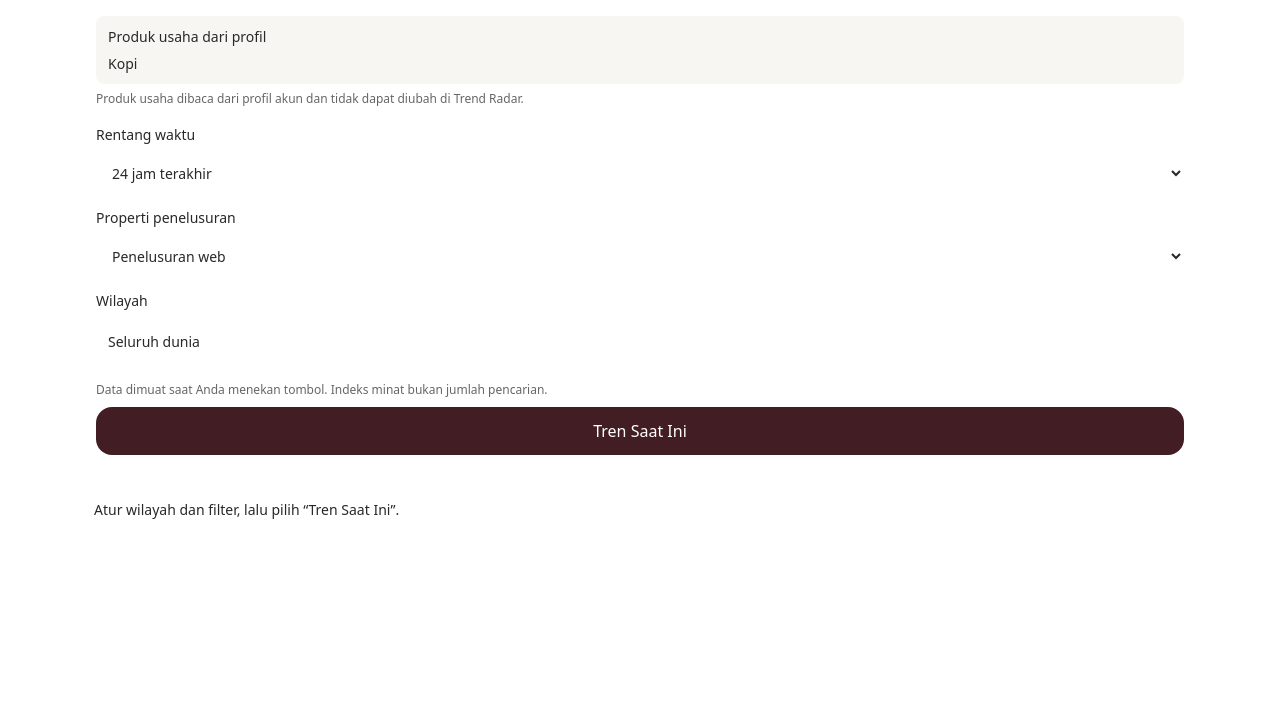
Test: TrendRadarPanel › shows an explicit empty state when SearchApi returns empty arrays
This screenshot has width=1280, height=720.
Click the button "Tren Saat Ini" at (640, 431), box [96, 407, 1184, 455]
(page scrolled)
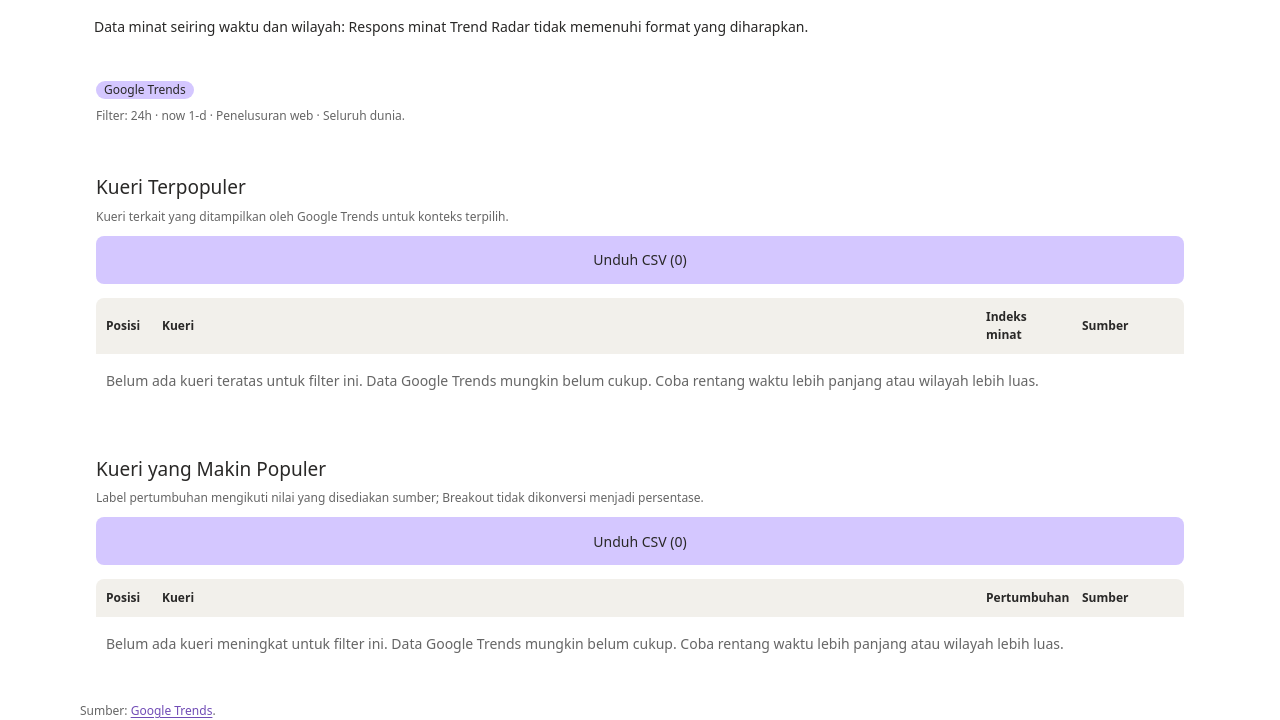
Result: the text "Belum ada kueri teratas untuk filter ini." is shown at [106, 370, 1039, 390]
Result: the text "Belum ada kueri meningkat untuk filter ini." is shown at [106, 634, 1064, 653]
